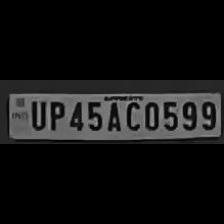0: (141, 99, 159, 131)
4: (66, 97, 84, 130)
5: (84, 98, 104, 132), (160, 97, 178, 130)
9: (180, 97, 198, 130), (198, 98, 216, 130)
A: (104, 98, 122, 132)
C: (122, 97, 140, 130)
P: (46, 97, 64, 130)
U: (27, 98, 45, 130)
